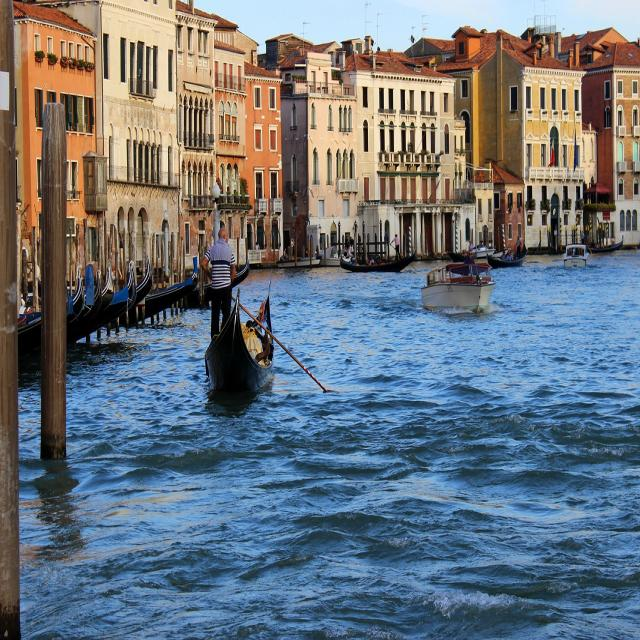boat: (205, 266, 289, 421), (340, 233, 423, 283)
